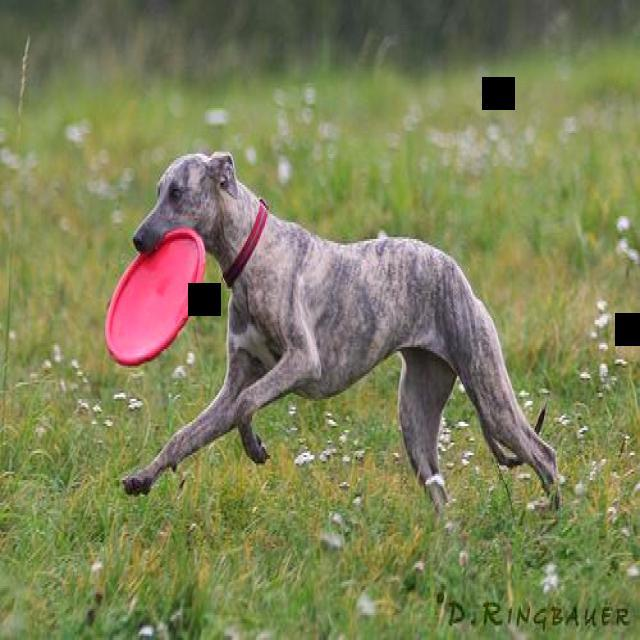adult_dog: (118, 148, 562, 530)
